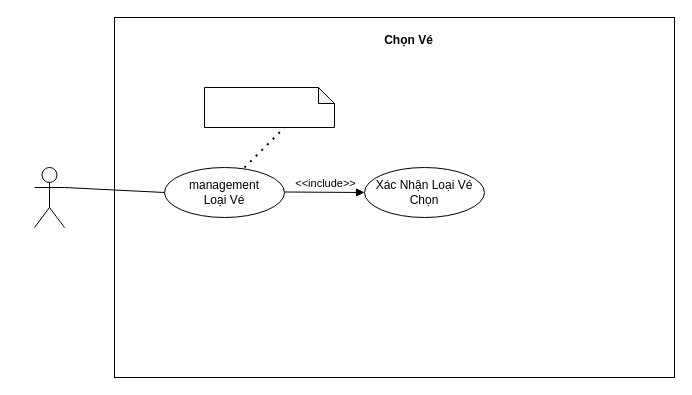
This 692x395 diagram has some shape labels left out. Here are the shapes that lost their labels. From the top down, the centre of each, then its label:
the point at 269,107: Vé Ngày / Vé Tuần / Vé Tháng
the point at 49,197: Người dùng
